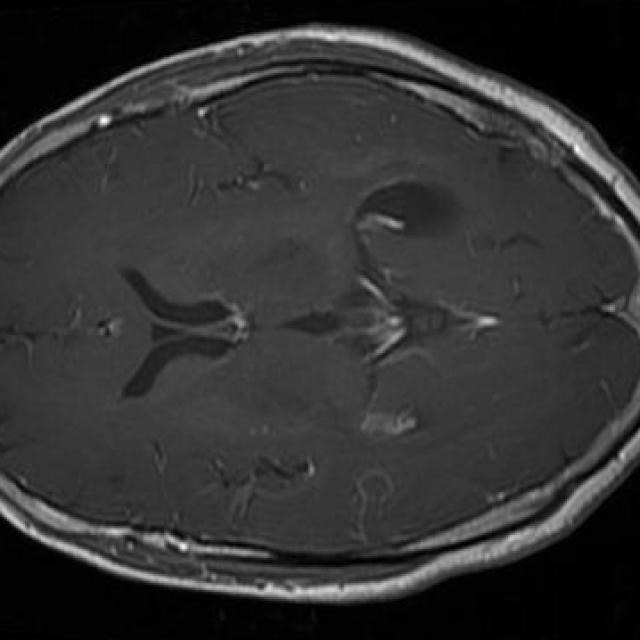glioma: (357, 182, 462, 237)
